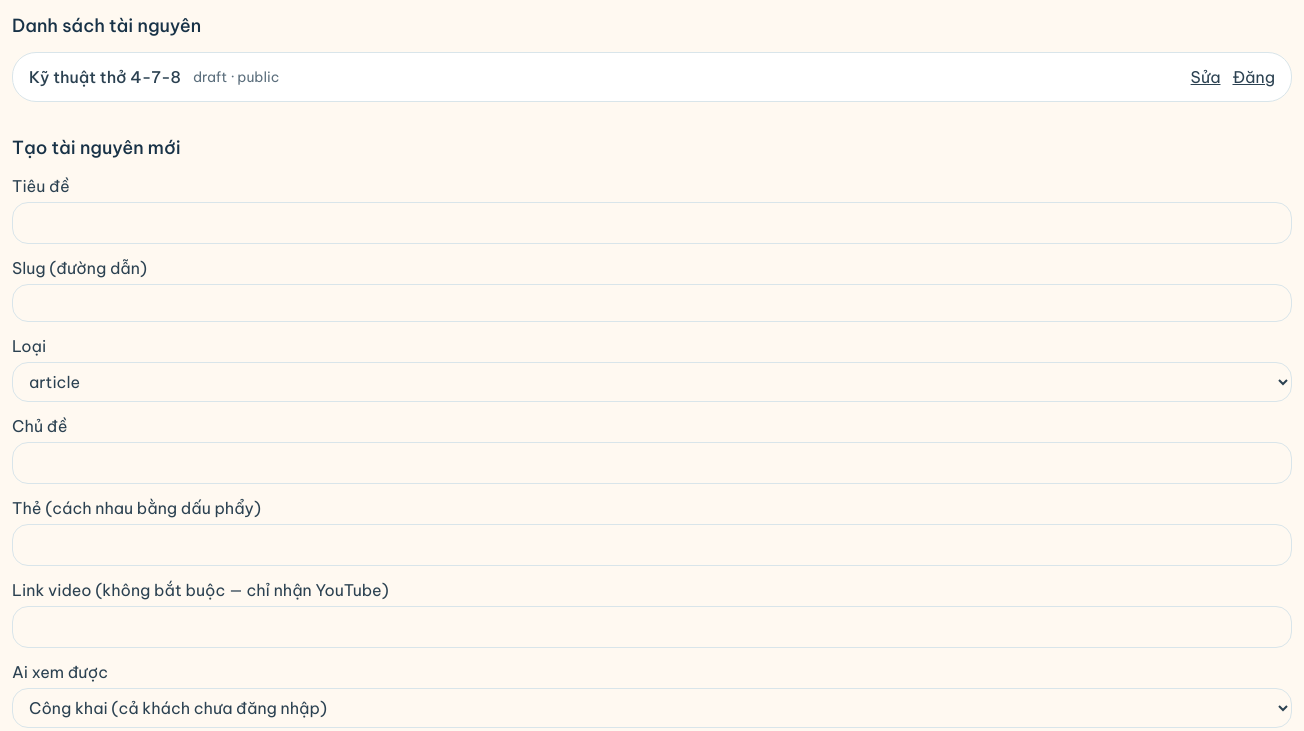
ResourceEditor › khi tải lại SAU khi đổi trạng thái đăng thất bại: chuyển sang trạng thái lỗi thay vì giữ danh sách cũ
The width and height of the screenshot is (1304, 731).
Expected: the text "Kỹ thuật thở 4-7-8" is shown, [29,65,181,89]
Click the button "Đăng": (1254, 77) [1232,65,1275,89]
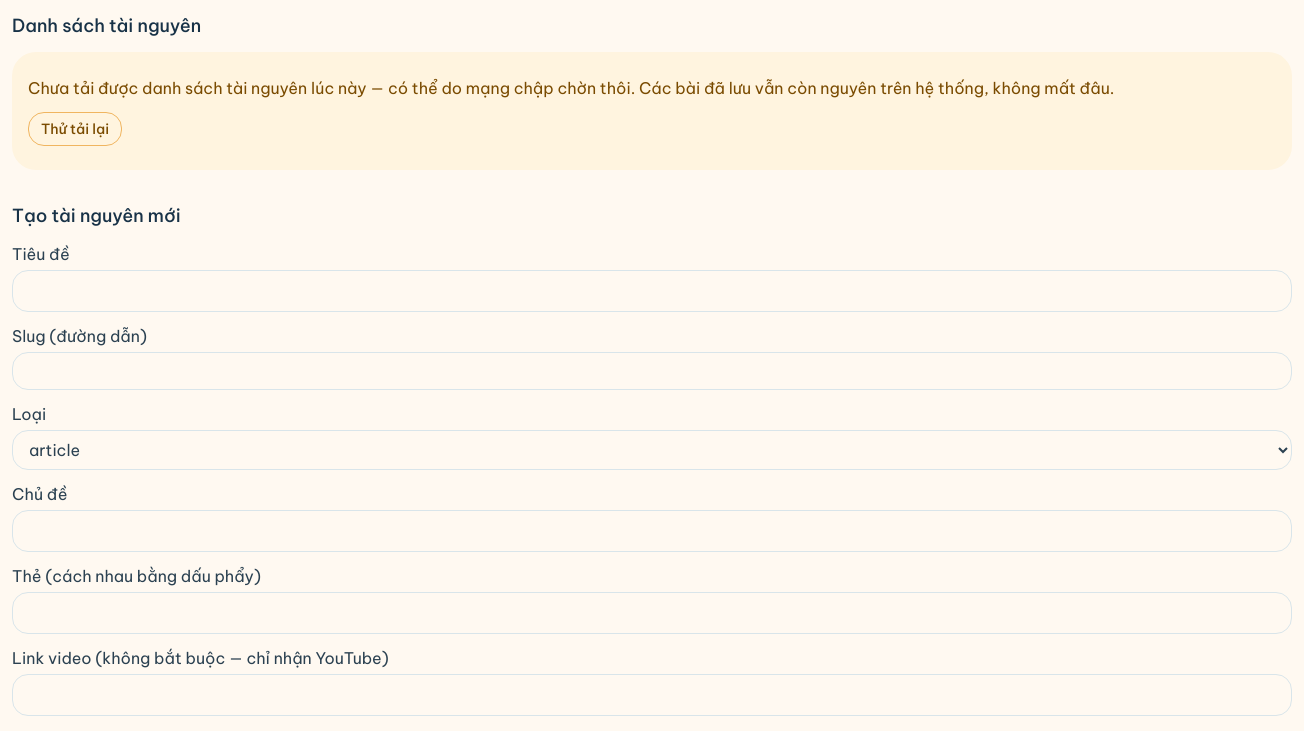
Expected: the text "Chưa tải được danh sách tài nguyên" is shown, [28,78,1114,98]
Expected: the text "Kỹ thuật thở 4-7-8" is gone
